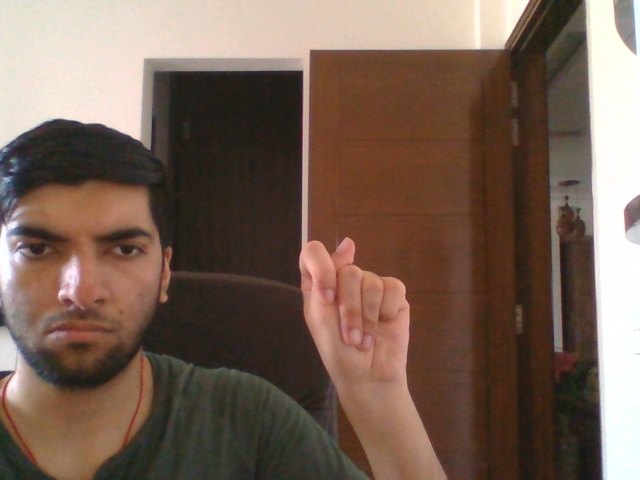LetterT: (296, 234, 412, 386)
